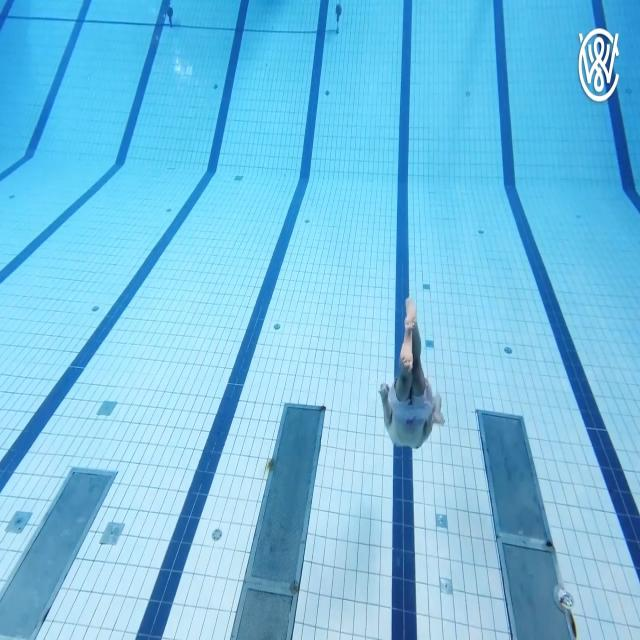Swimming: (380, 299, 446, 454)
